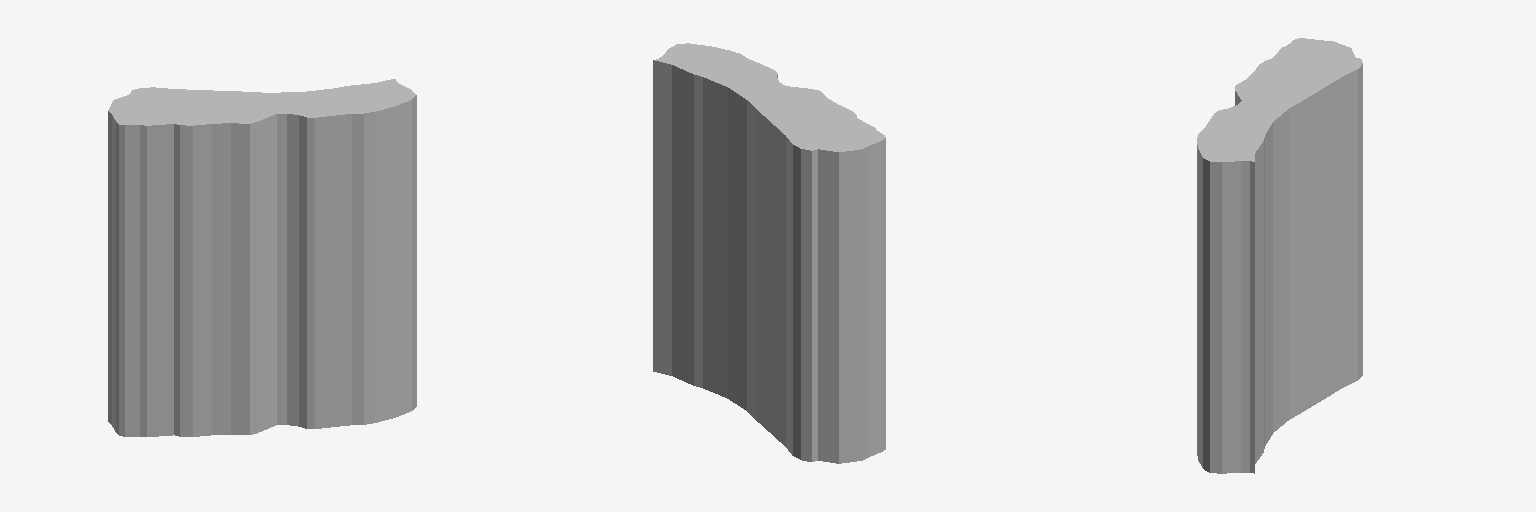
3 views of the same model, side by side, from view 1: azimuth 30°, elevation 25°; view 2: azimuth 150°, elevation 25°; view 3: azimuth 270°, elevation 25° (orthographic).
Visible parts, largest first — view 1: NP.002_CUCurve.1829; view 2: NP.002_CUCurve.1829; view 3: NP.002_CUCurve.1829.
Boxes of the visible parts, <box> form: NP.002_CUCurve.1829: <box>108,79,416,436</box>; NP.002_CUCurve.1829: <box>653,43,885,463</box>; NP.002_CUCurve.1829: <box>1197,38,1362,473</box>.
Size of the model in its own units: 0.0428 by 0.05 by 0.0241.